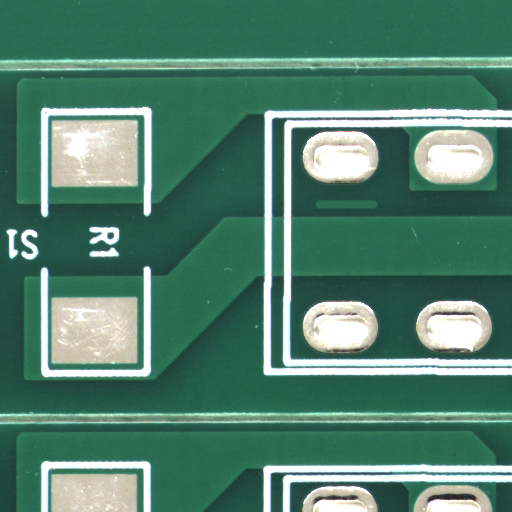Spurious_copper: (345, 203, 406, 217)
